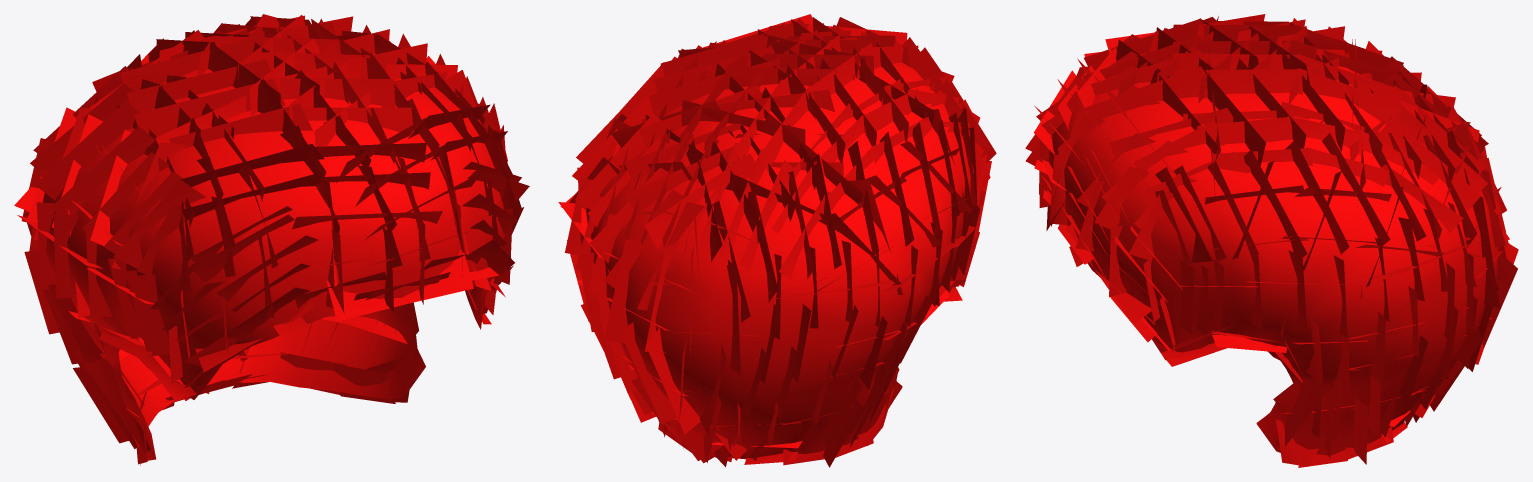
Rendered from afro01_M.glb.
3 views of the same model, side by side, from view 1: azimuth 30°, elevation 25°; view 2: azimuth 150°, elevation 25°; view 3: azimuth 270°, elevation 25° (orthographic). The views are drawn at different scales.
Bounding box in the file's own units: 0.2183 × 0.211 × 0.2508.
Materials: 1 (1 with a texture image).
